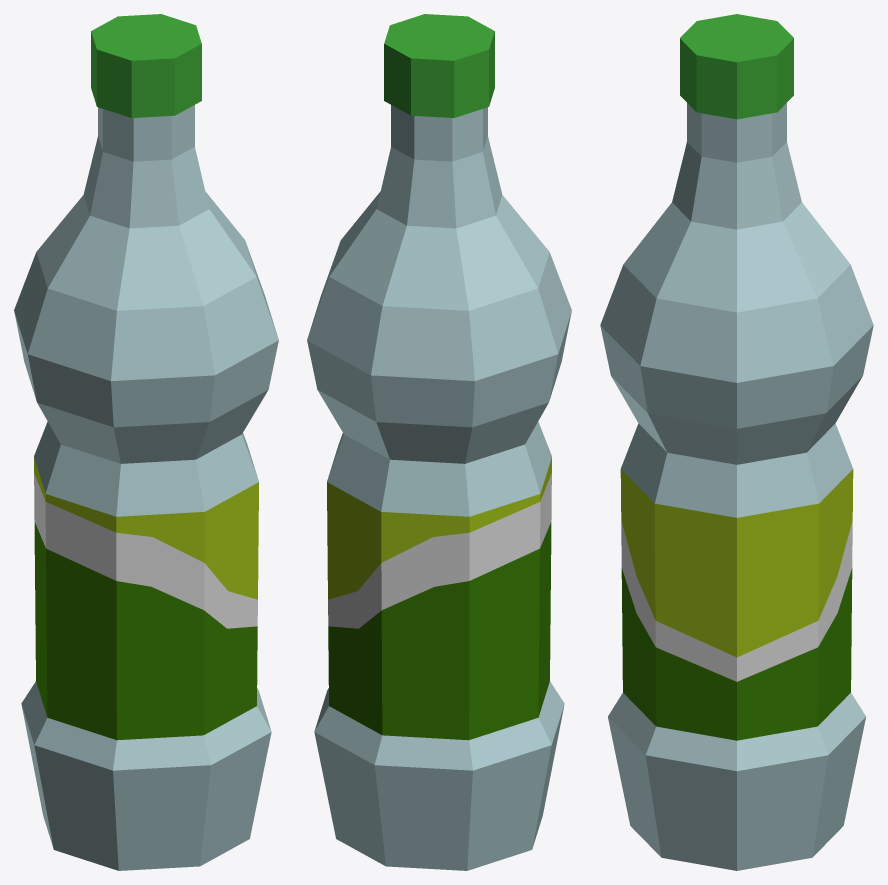
The model's file is Soda_Bottle_Plastic_C_GLASS.obj.
3 views of the same model, side by side, from view 1: azimuth 30°, elevation 25°; view 2: azimuth 150°, elevation 25°; view 3: azimuth 270°, elevation 25° (orthographic).
Parts seen in each view (by area): view 1: Soda_Bottle_Plastic_C_GLASS_0, Soda_Bottle_Plastic_C_GLASS_1; view 2: Soda_Bottle_Plastic_C_GLASS_0, Soda_Bottle_Plastic_C_GLASS_1; view 3: Soda_Bottle_Plastic_C_GLASS_0, Soda_Bottle_Plastic_C_GLASS_1.
Boxes of the visible parts, x1,y1,x2,y2 form: Soda_Bottle_Plastic_C_GLASS_0: [14, 105, 278, 870]; Soda_Bottle_Plastic_C_GLASS_1: [34, 14, 258, 740]; Soda_Bottle_Plastic_C_GLASS_0: [307, 105, 571, 870]; Soda_Bottle_Plastic_C_GLASS_1: [327, 14, 551, 740]; Soda_Bottle_Plastic_C_GLASS_0: [600, 103, 873, 870]; Soda_Bottle_Plastic_C_GLASS_1: [620, 14, 853, 740].
Bounding box in the file's own units: 0.4118 × 1.31 × 0.4117.
2 materials, 1 textured.
